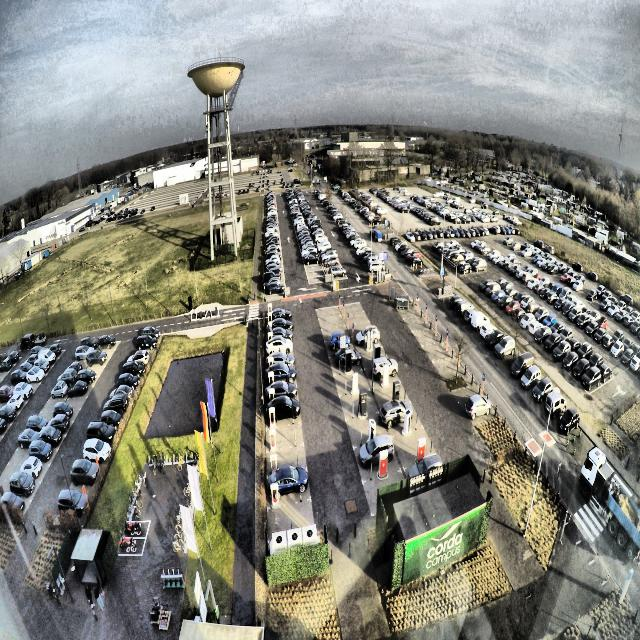cabinet: (272, 526, 318, 549)
car: (266, 462, 309, 498), (265, 394, 302, 425), (265, 360, 298, 384), (265, 380, 297, 402), (264, 350, 295, 370), (265, 336, 293, 354), (266, 317, 294, 334), (268, 327, 294, 341), (271, 307, 293, 323)
parking: (267, 469, 311, 507), (268, 501, 314, 537), (267, 443, 307, 476), (265, 423, 303, 451), (265, 404, 301, 429), (265, 384, 299, 407), (265, 369, 296, 388), (266, 354, 295, 371), (265, 342, 293, 358), (265, 333, 291, 346), (265, 323, 290, 335), (265, 313, 289, 325)
supercharger: (270, 484, 279, 506), (270, 454, 278, 476), (269, 428, 276, 451), (269, 407, 276, 428), (268, 371, 274, 388), (268, 356, 274, 371), (269, 389, 274, 404), (268, 344, 273, 357), (267, 311, 272, 322), (268, 333, 272, 344), (268, 322, 272, 332), (267, 303, 271, 313)
